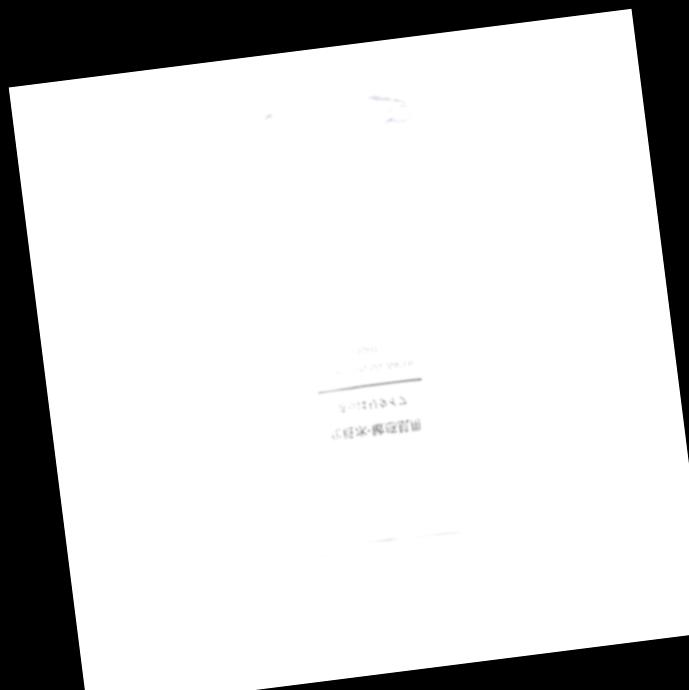cosmetic: (251, 93, 479, 626)
